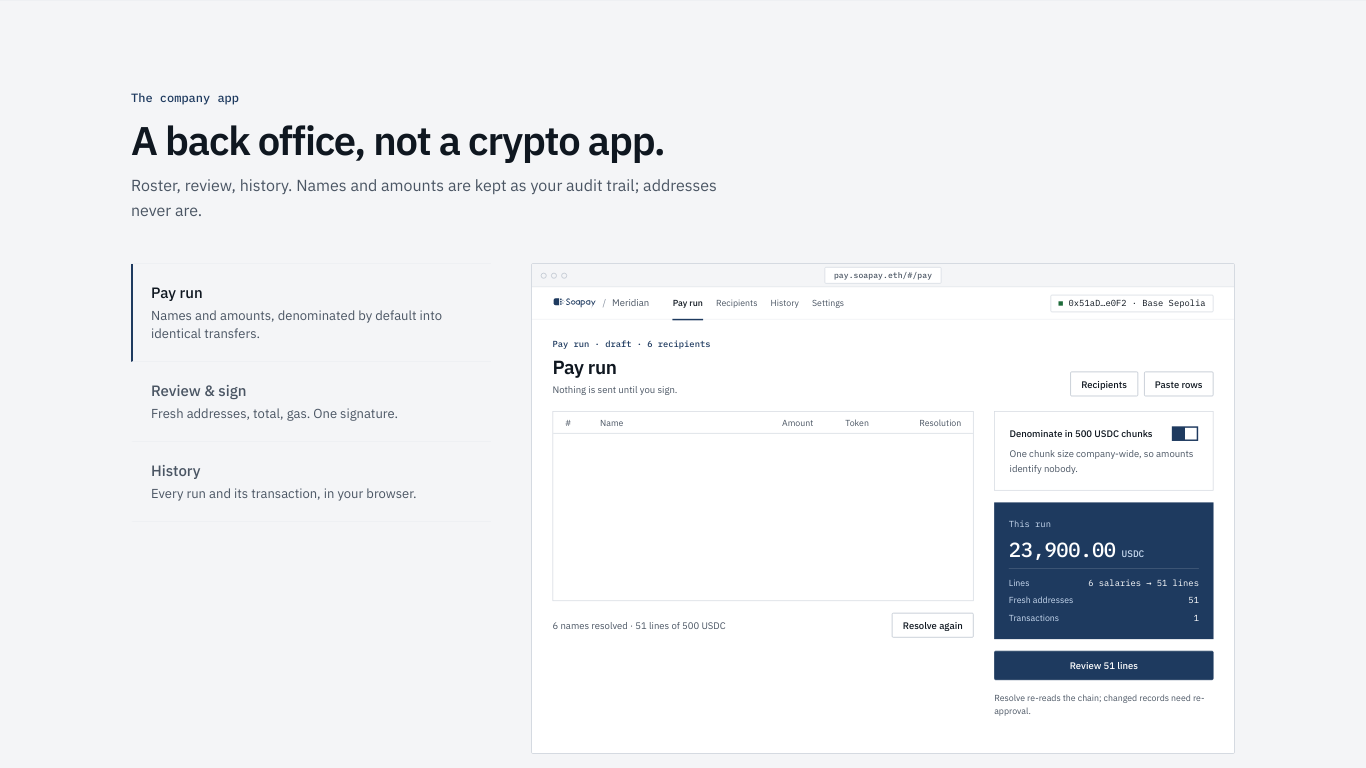
Test: Landing · Showcase › clicking History shows the history frame and its runs
Click the tab "History Every run and its transaction, in your browser.".
click(311, 482)  # box 131,442 -> 491,522
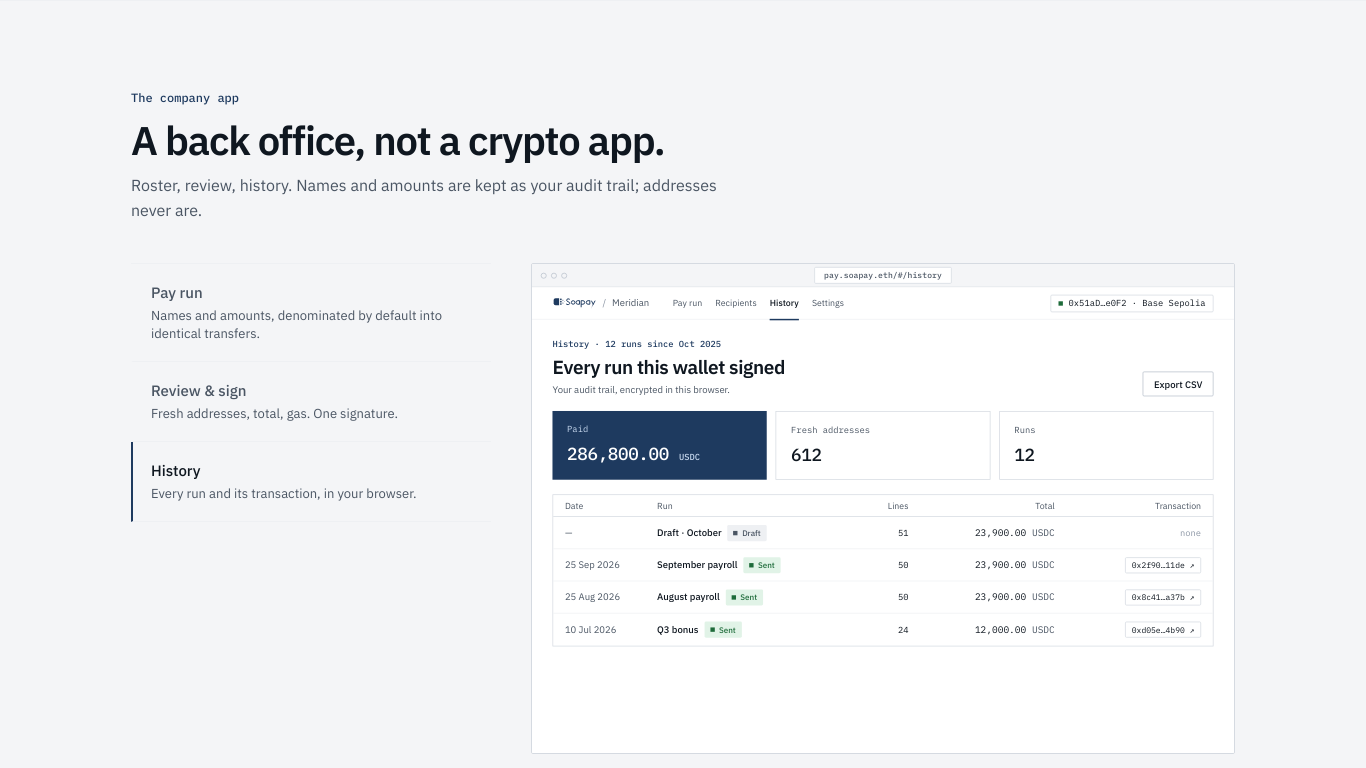
Check: the text "September payroll" is shown, box 657,558 -> 737,571
